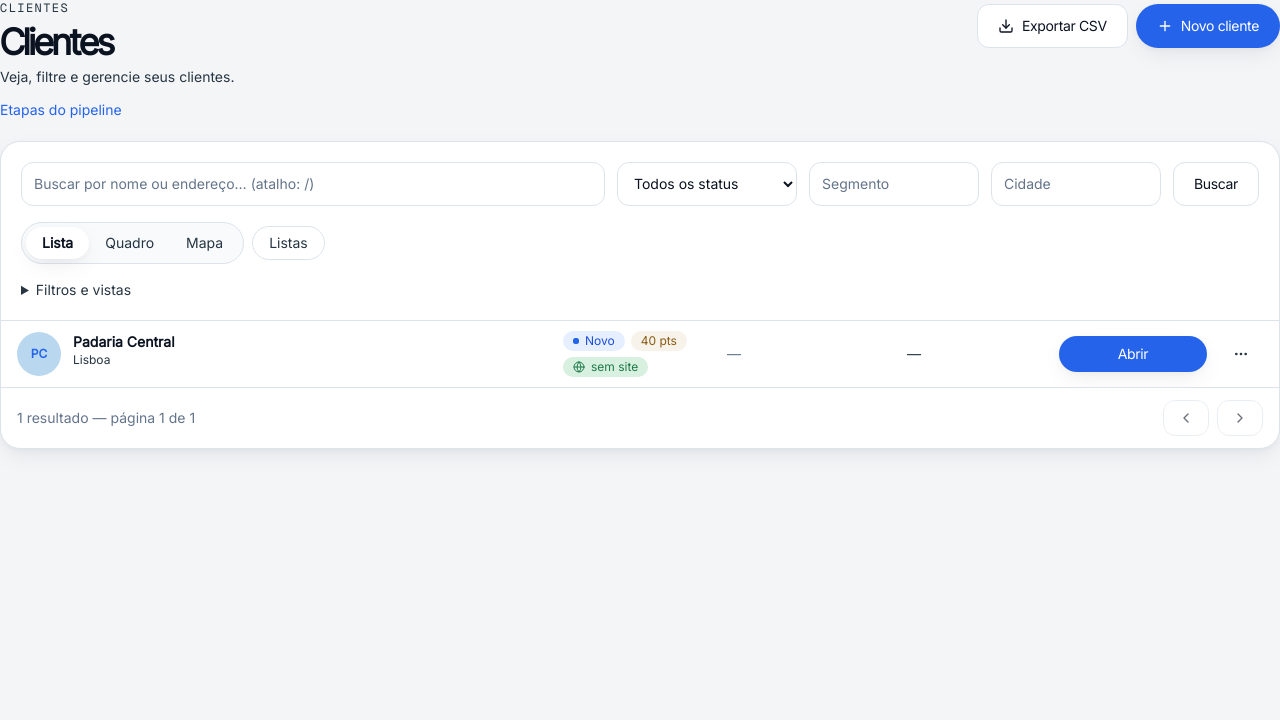
Test: LeadsPage saved views › lets an ephemeral list show an active custom field column and hides archived pickers
Click the heading "Filtros e vistas". click: (83,289)
box: [36,281,131,298]
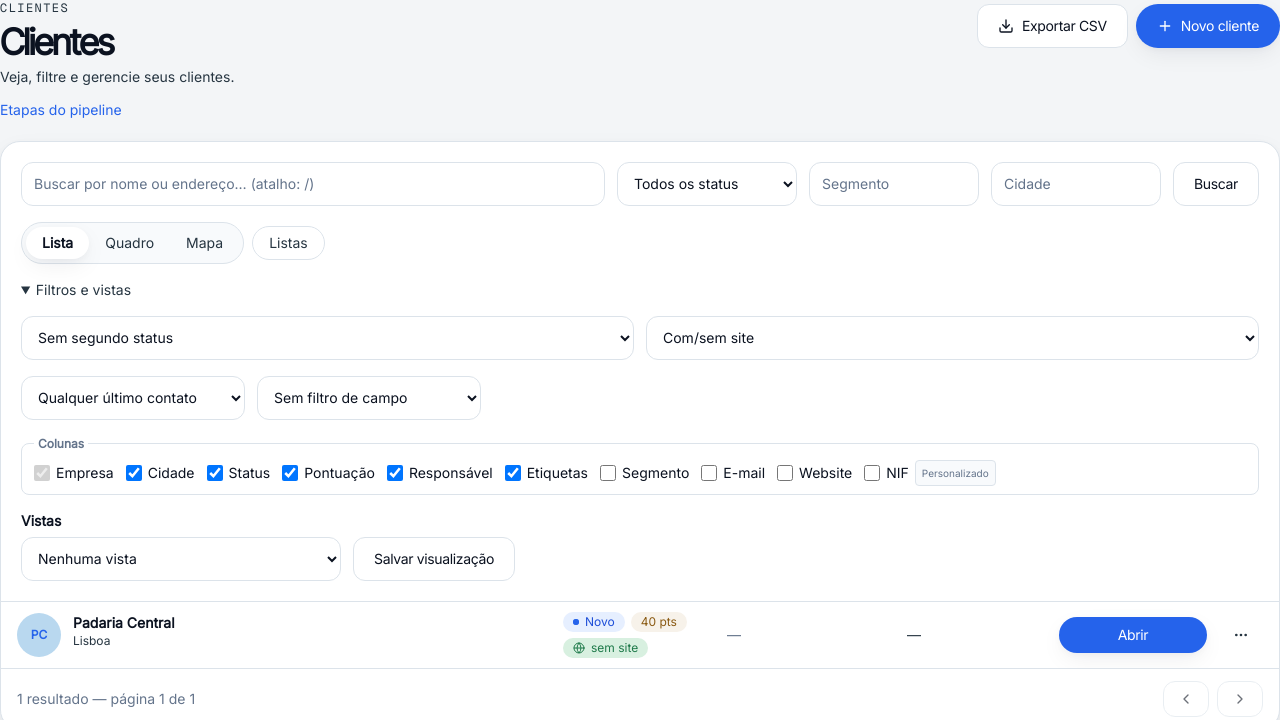
Expected: the checkbox labelled "NIF" is shown
Click the checkbox labelled "NIF". click: (872,473)
box: [864,465,880,481]
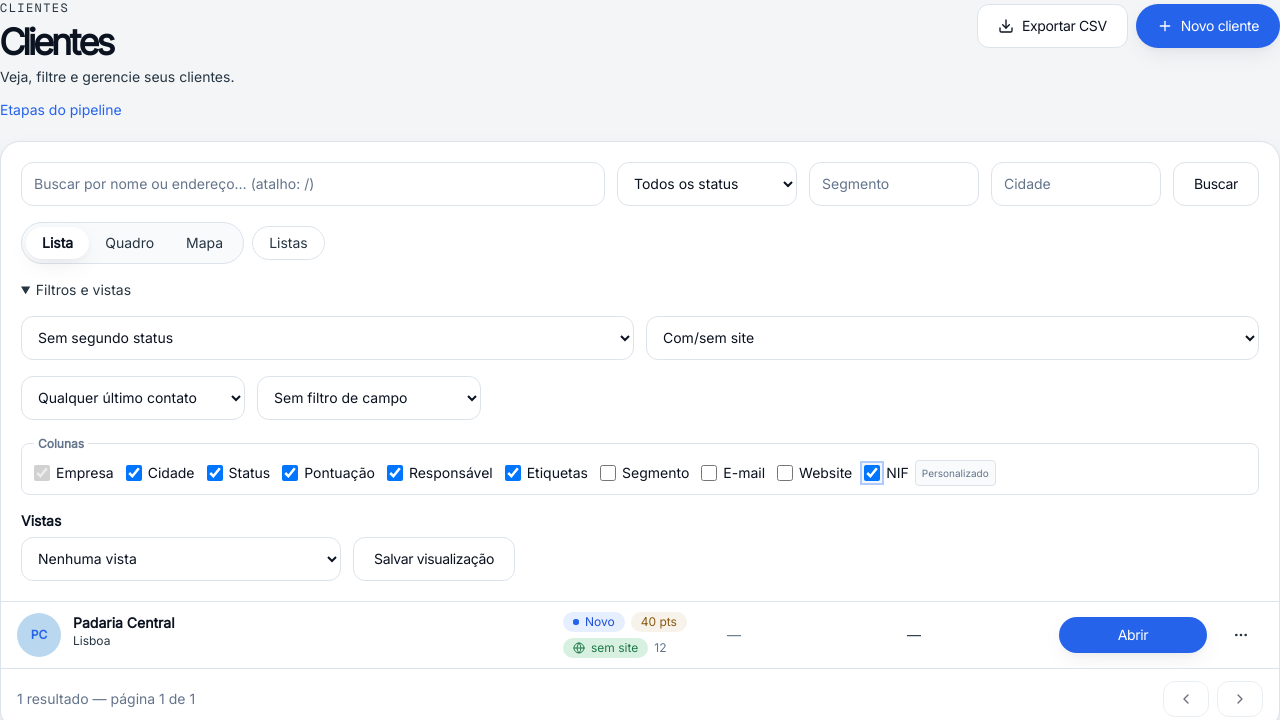
Expected: the checkbox labelled "NIF" is checked, [864,465,880,481]
Expected: the text "12" is shown, [654,640,666,655]
